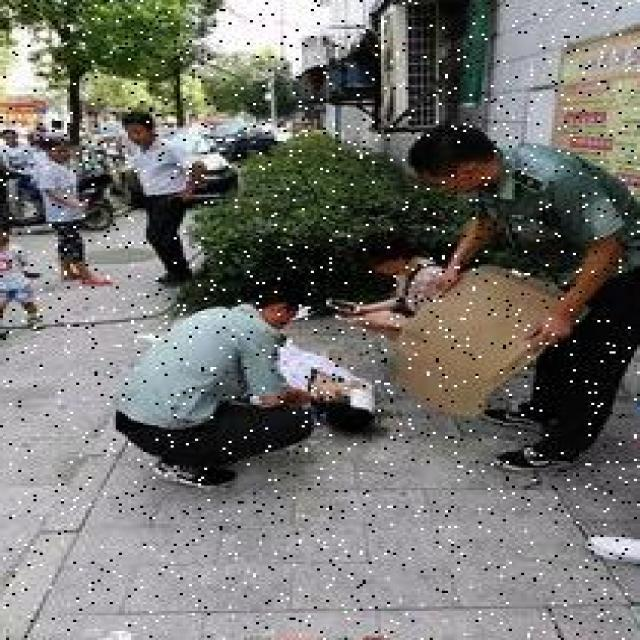fall: (176, 324, 396, 432)
